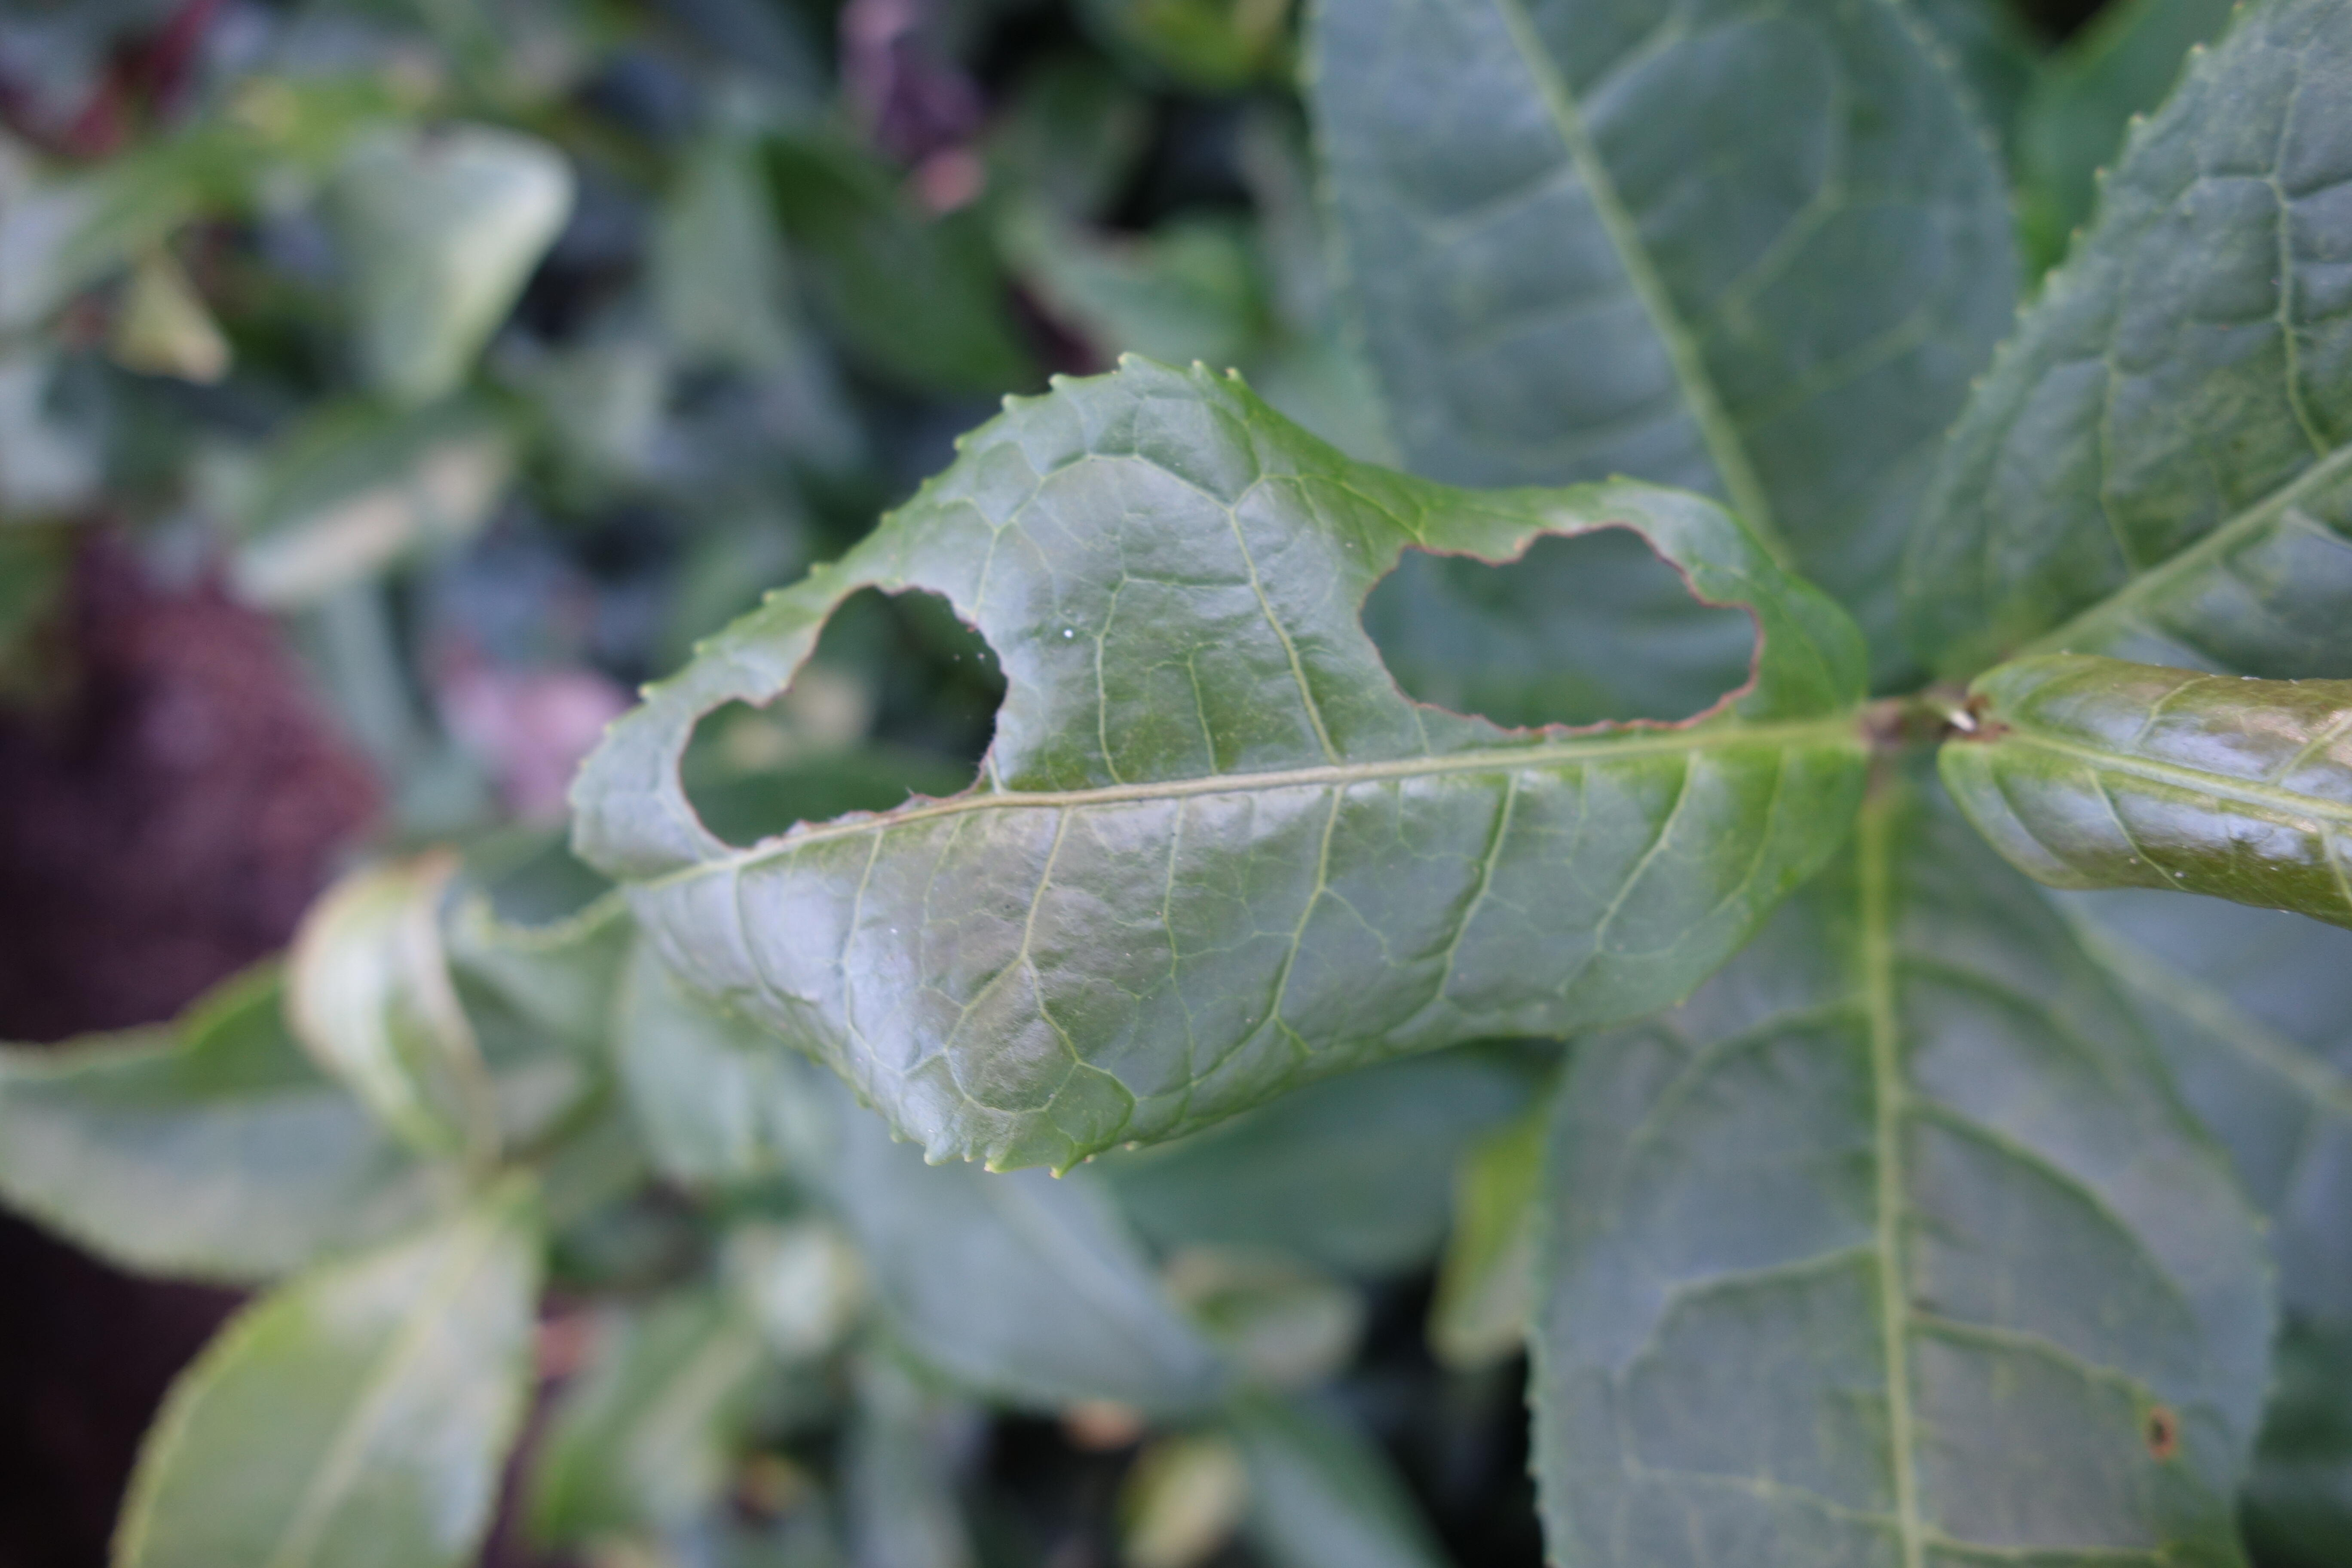chihuo_high: (569, 348, 1881, 1176)
